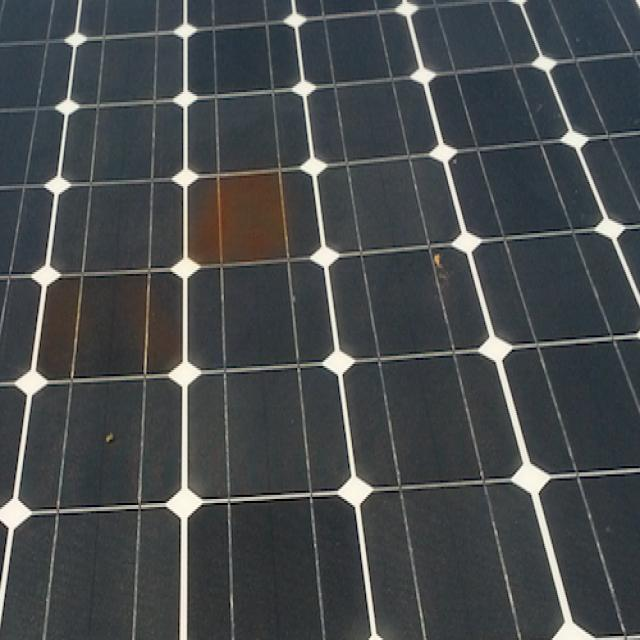Electrical-damage: (29, 265, 188, 393), (171, 166, 306, 270), (413, 234, 456, 293), (102, 431, 120, 444)
